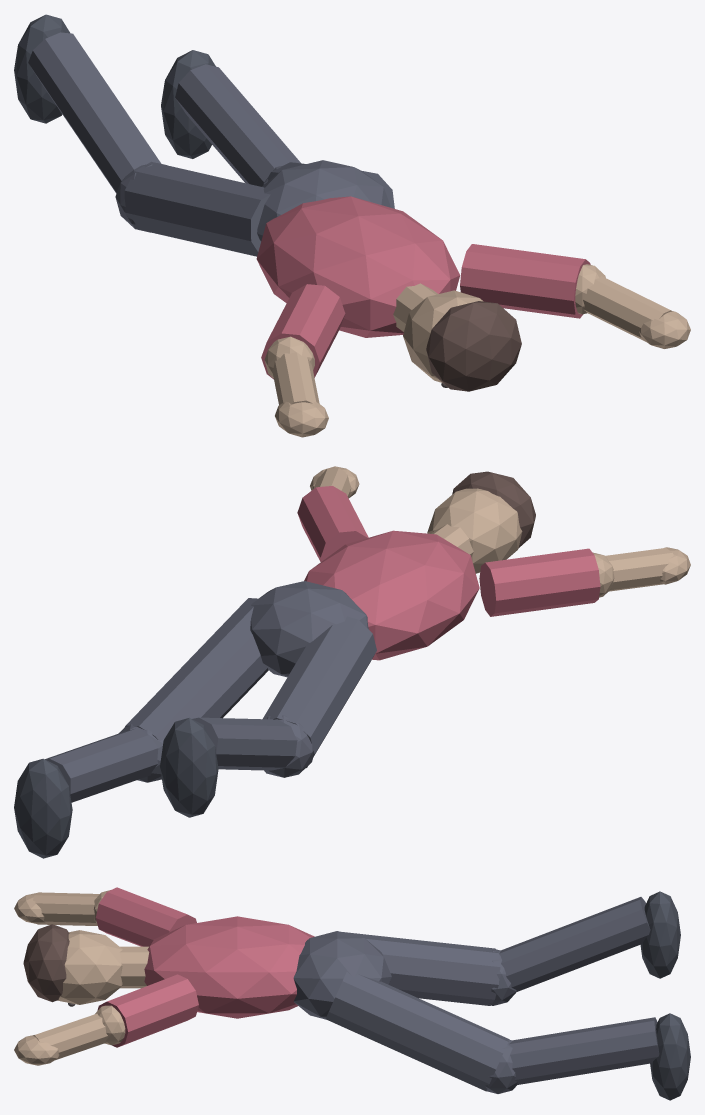
3 renders of one model, top to bottom at view 1: azimuth 30°, elevation 25°; view 2: azimuth 150°, elevation 25°; view 3: azimuth 270°, elevation 25°, orthographic. The views are drawn at different scales.
Parts seen in each view (by area): view 1: world; view 2: world; view 3: world.
Boxes of the visible parts, left/top/right/bottom form: world: left=14, top=14, right=690, bottom=437; world: left=14, top=466, right=690, bottom=858; world: left=14, top=887, right=690, bottom=1100.
Size of the model in its own units: 1.17 by 0.5125 by 2.1.
